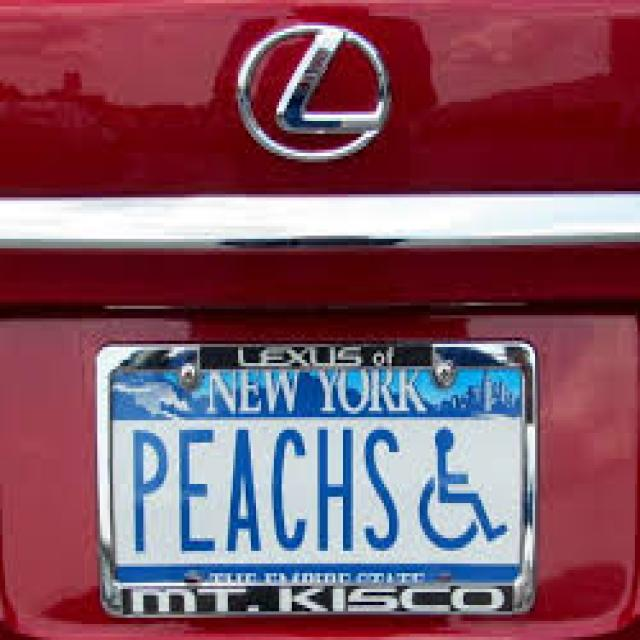car-handicap-placard: (420, 424, 515, 555)
